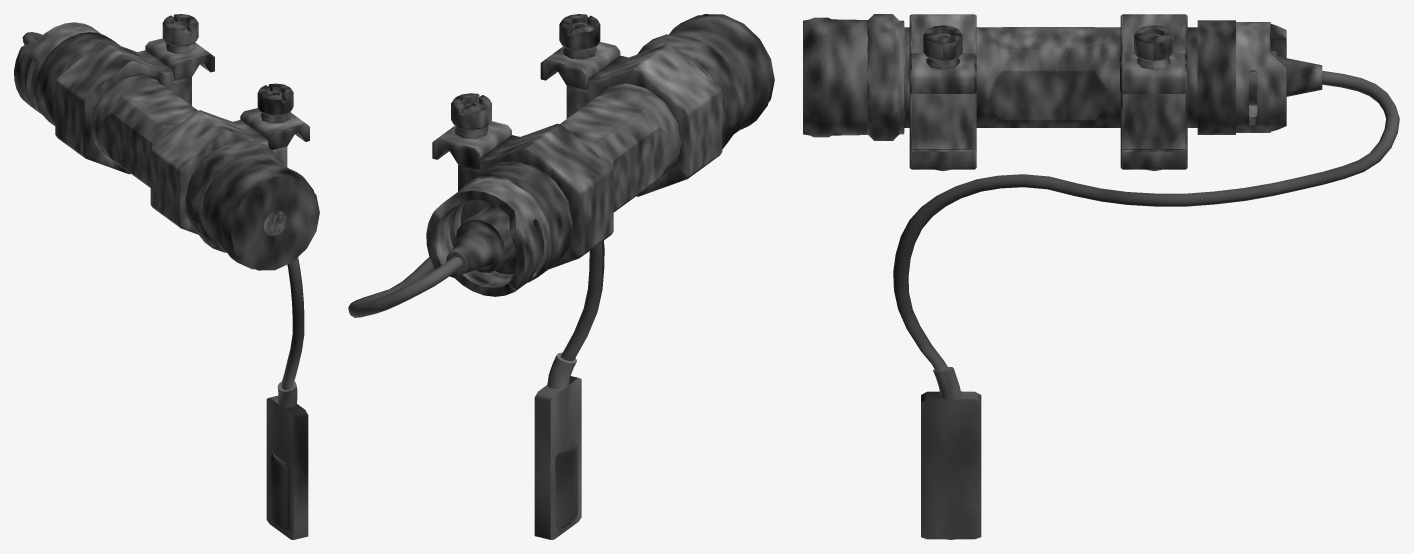
File: 001_laserpointer01a.fbx
3 renders of one model, left to right at view 1: azimuth 30°, elevation 25°; view 2: azimuth 150°, elevation 25°; view 3: azimuth 270°, elevation 25°, orthographic. The views are drawn at different scales.
Visible parts, largest first — view 1: LOD_1_Group_0_Sub_1__md_common_light_bm__Env_Default; view 2: LOD_1_Group_0_Sub_1__md_common_light_bm__Env_Default; view 3: LOD_1_Group_0_Sub_1__md_common_light_bm__Env_Default.
Part boxes in pixels (left/top/right/bottom): LOD_1_Group_0_Sub_1__md_common_light_bm__Env_Default: left=14, top=14, right=319, bottom=539; LOD_1_Group_0_Sub_1__md_common_light_bm__Env_Default: left=348, top=14, right=774, bottom=539; LOD_1_Group_0_Sub_1__md_common_light_bm__Env_Default: left=803, top=14, right=1399, bottom=539.
Bounding box in the file's own units: 0.0406 × 0.1222 × 0.1336.
